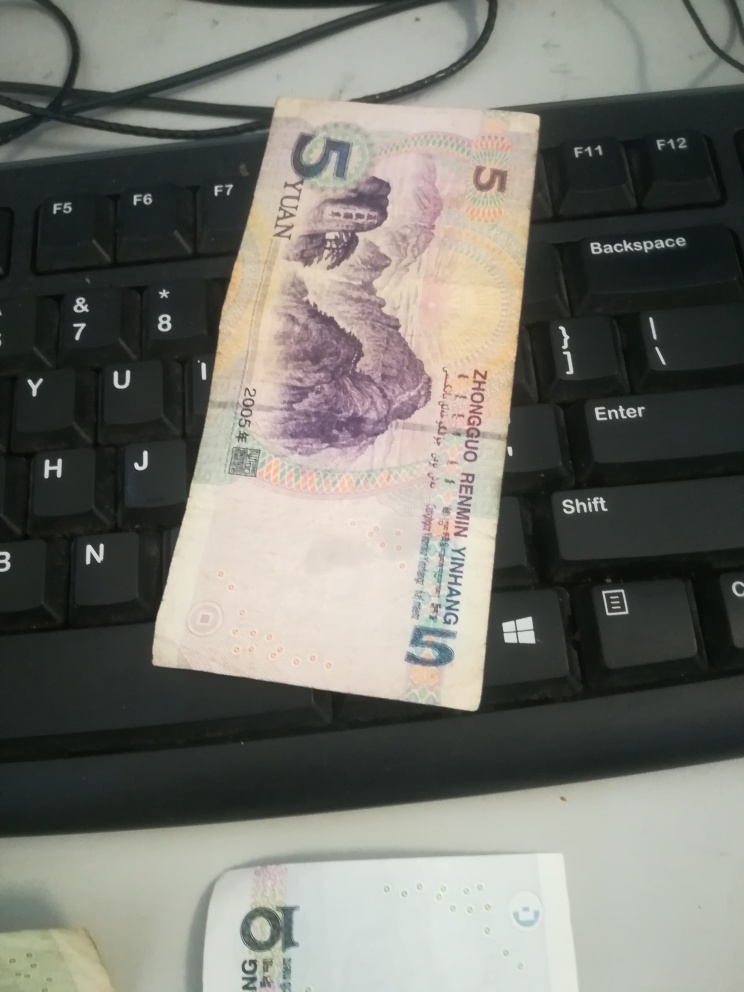rmb: (142, 96, 555, 714)
